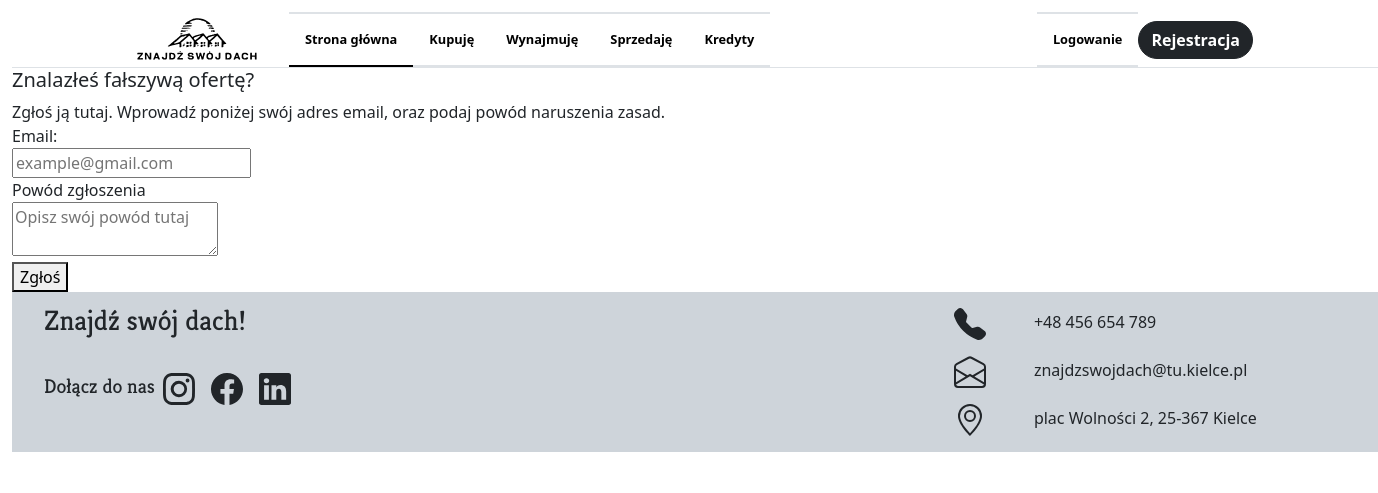
Test: ReportOfferView › displays reason error message for empty reason
In the field with placeholder "example@gmail.com": x=132, y=163 top-left (12, 148), bottom-right (251, 178), type "przyklad@gmail.com"
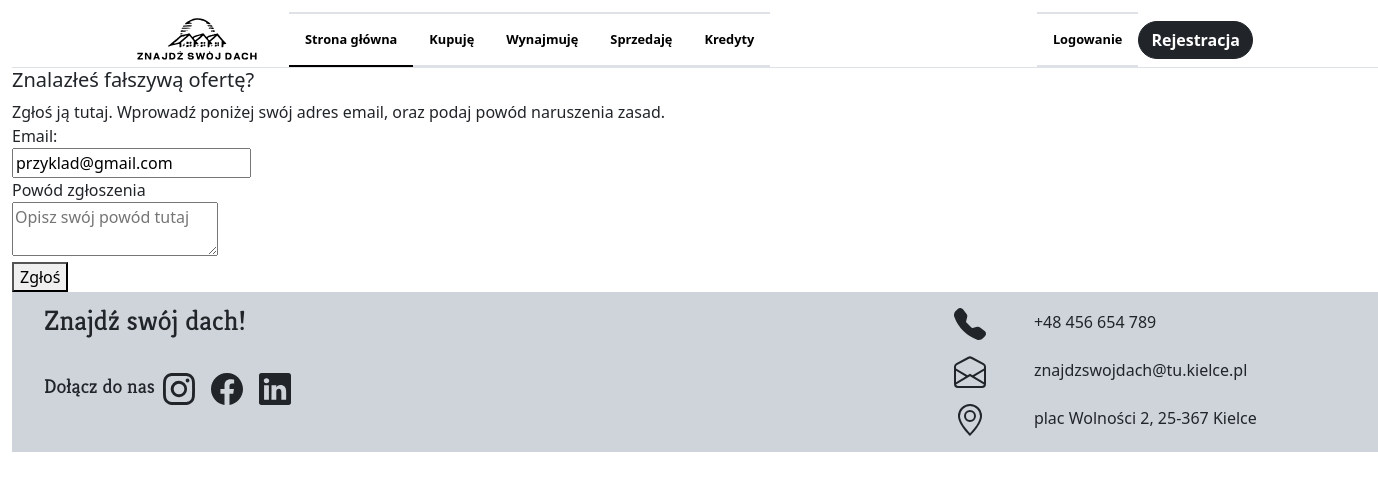
Click the button with test id "zglos-button": x=40, y=277 top-left (12, 262), bottom-right (68, 292)
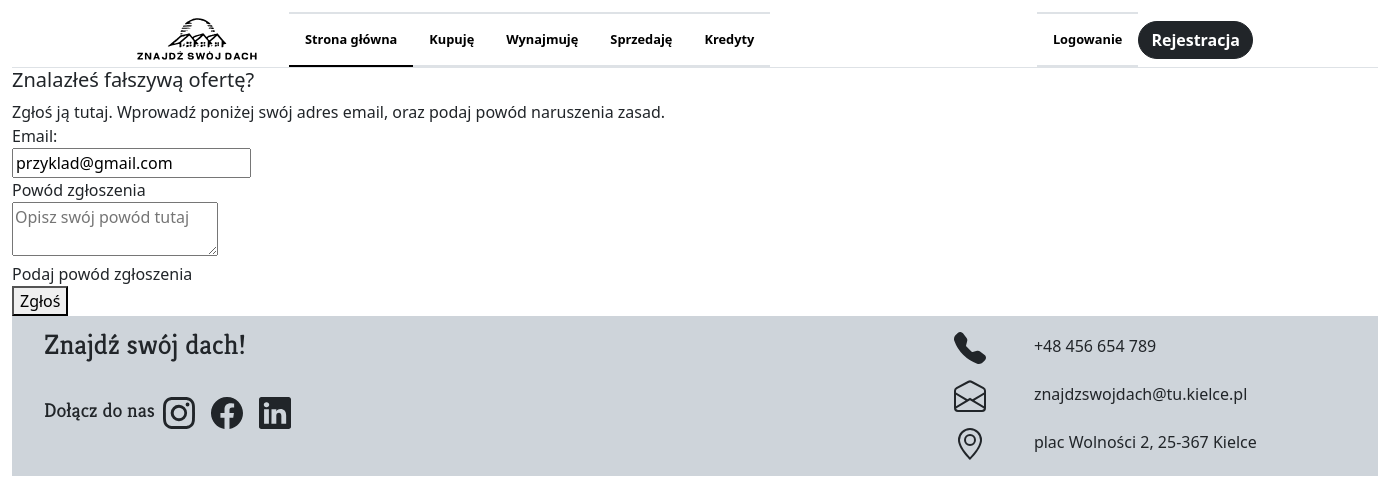
Expected: the text "Podaj powód zgłoszenia" is shown, top-left (12, 263), bottom-right (192, 285)
